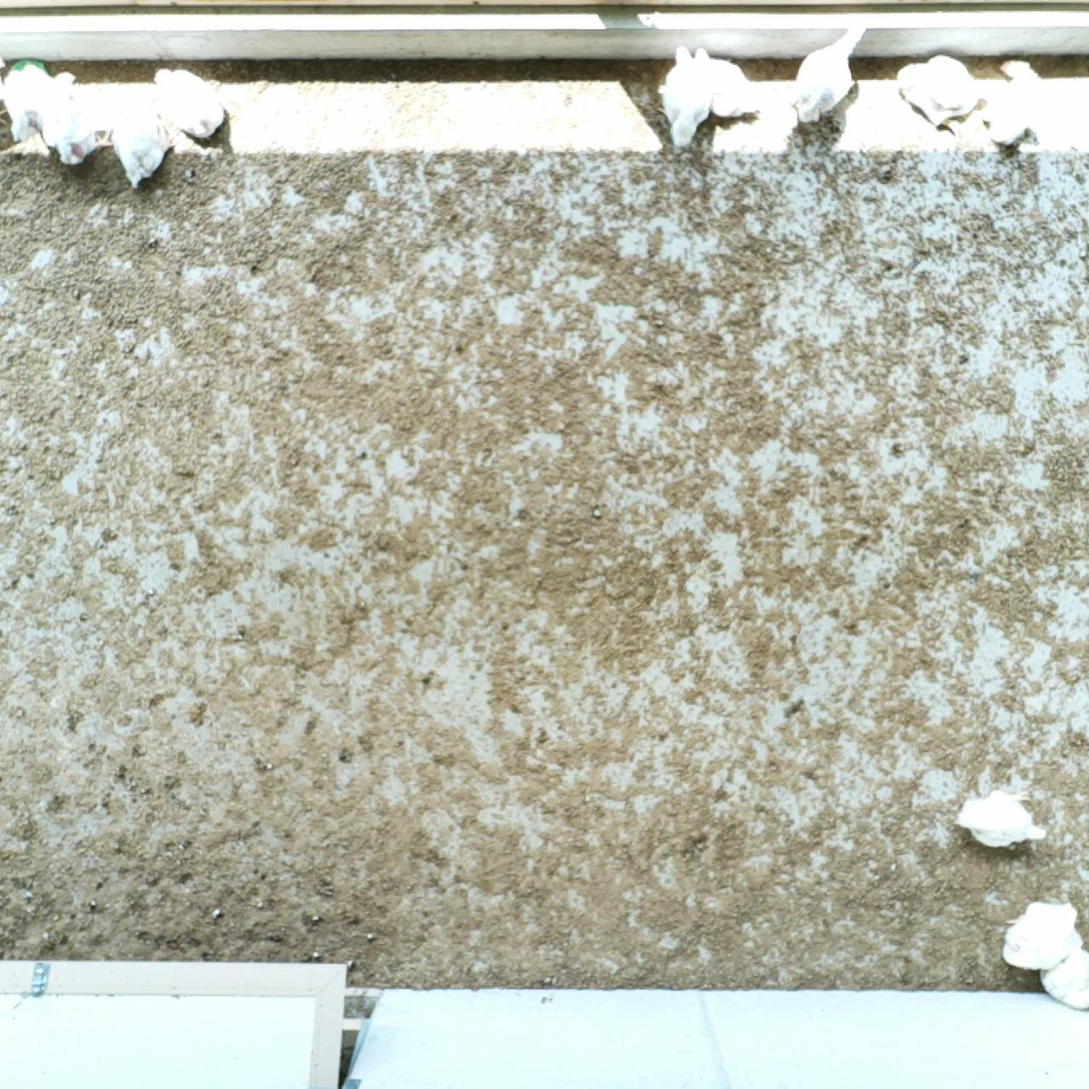chicken: (892, 51, 985, 139), (787, 26, 869, 125), (104, 84, 176, 189), (36, 69, 113, 166), (999, 894, 1082, 973), (656, 41, 715, 150), (983, 57, 1052, 150), (952, 785, 1049, 851), (151, 64, 230, 138), (690, 45, 763, 117), (0, 61, 56, 141), (1036, 945, 1089, 1011)
